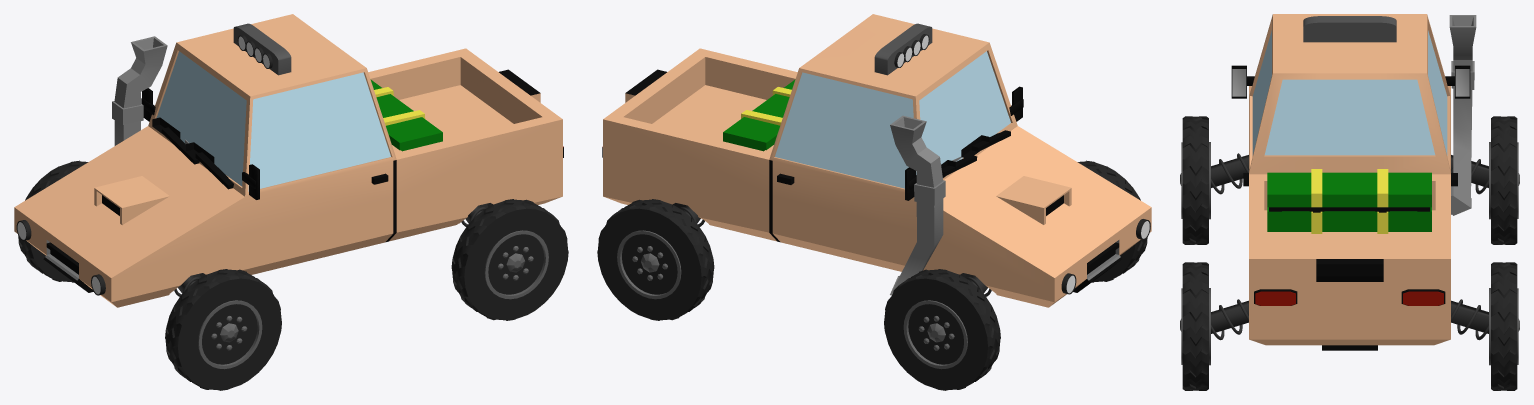
File: rallycar.fbx
3 views of the same model, side by side, from view 1: azimuth 30°, elevation 25°; view 2: azimuth 150°, elevation 25°; view 3: azimuth 270°, elevation 25° (orthographic). The views are drawn at different scales.
Visible parts, largest first — view 1: Cube, Cylinder.007, Cylinder.006, Cube.017, Cube.002, Cube.001, Cylinder.004, Cube.013; view 2: Cube, Cylinder.007, Cylinder.006, Cube.017, Cube.002, Cube.001, Cylinder.004, Cube.013; view 3: Cube, Cube.002, Cylinder.006, Cylinder.007, Cube.017, Cylinder.004, Cube.009, Cube.010, Cube.012, Cube.003, Cube.005.
Part boxes in pixels (x1=…): Cube: x1=14, y1=14, x2=562, y2=307; Cylinder.007: x1=18, y1=160, x2=281, y2=390; Cylinder.006: x1=451, y1=199, x2=568, y2=320; Cube.017: x1=112, y1=36, x2=188, y2=145; Cube.002: x1=370, y1=79, x2=442, y2=151; Cube.001: x1=94, y1=176, x2=169, y2=224; Cylinder.004: x1=233, y1=23, x2=291, y2=75; Cube.013: x1=152, y1=117, x2=233, y2=189; Cube: x1=603, y1=14, x2=1151, y2=307; Cylinder.007: x1=884, y1=160, x2=1147, y2=390; Cylinder.006: x1=597, y1=199, x2=714, y2=320; Cube.017: x1=890, y1=115, x2=961, y2=295; Cube.002: x1=723, y1=79, x2=795, y2=151; Cube.001: x1=996, y1=176, x2=1071, y2=224; Cylinder.004: x1=874, y1=23, x2=932, y2=75; Cube.013: x1=941, y1=130, x2=1010, y2=177; Cube: x1=1249, y1=14, x2=1450, y2=350; Cube.002: x1=1267, y1=169, x2=1431, y2=233; Cylinder.006: x1=1180, y1=262, x2=1519, y2=390; Cylinder.007: x1=1180, y1=116, x2=1519, y2=244; Cube.017: x1=1449, y1=15, x2=1476, y2=215; Cylinder.004: x1=1303, y1=16, x2=1396, y2=42; Cube.009: x1=1211, y1=299, x2=1488, y2=340; Cube.010: x1=1211, y1=153, x2=1488, y2=194; Cube.012: x1=1254, y1=289, x2=1445, y2=305; Cube.003: x1=1231, y1=65, x2=1246, y2=98; Cube.005: x1=1455, y1=65, x2=1470, y2=98.
Size of the model in its own units: 556 by 302 by 336.
